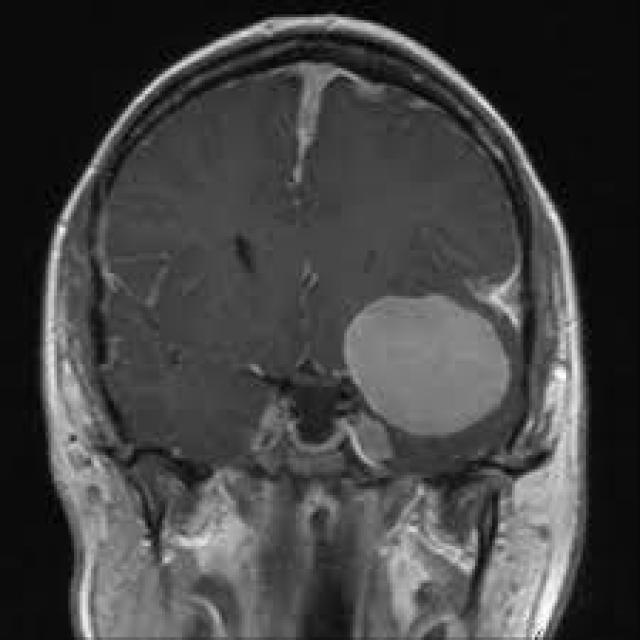Tumor: (347, 287, 512, 438)
